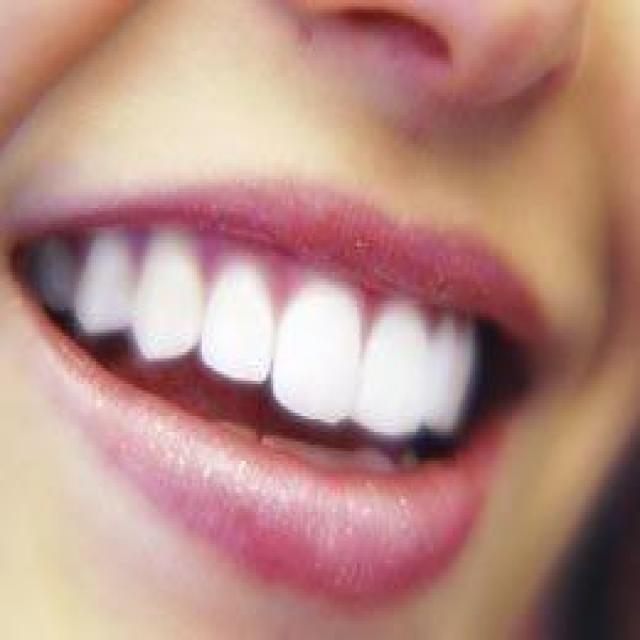Tooth: (271, 275, 362, 422), (352, 304, 431, 435), (197, 256, 273, 384), (135, 234, 207, 365), (76, 234, 135, 330), (418, 323, 458, 432)
